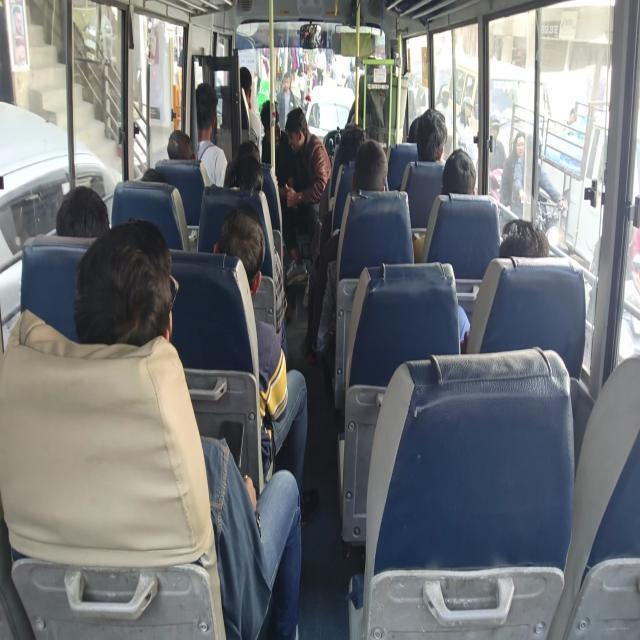person: (93, 253, 183, 338), (222, 208, 273, 276), (497, 206, 541, 277), (64, 184, 105, 233), (358, 150, 395, 204), (419, 106, 451, 165), (446, 152, 476, 197), (233, 138, 270, 168), (285, 106, 309, 152), (228, 158, 256, 192), (189, 96, 214, 134), (338, 119, 362, 155), (170, 122, 192, 161), (142, 152, 167, 186), (362, 55, 388, 86), (261, 105, 277, 146), (238, 74, 255, 100)
